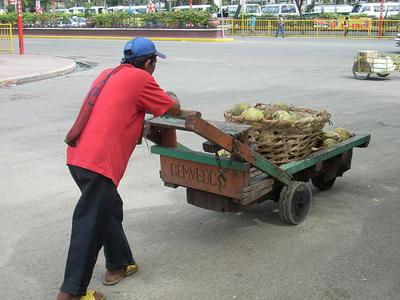person: (55, 37, 182, 298)
